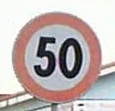limite 50: (12, 13, 102, 101)
